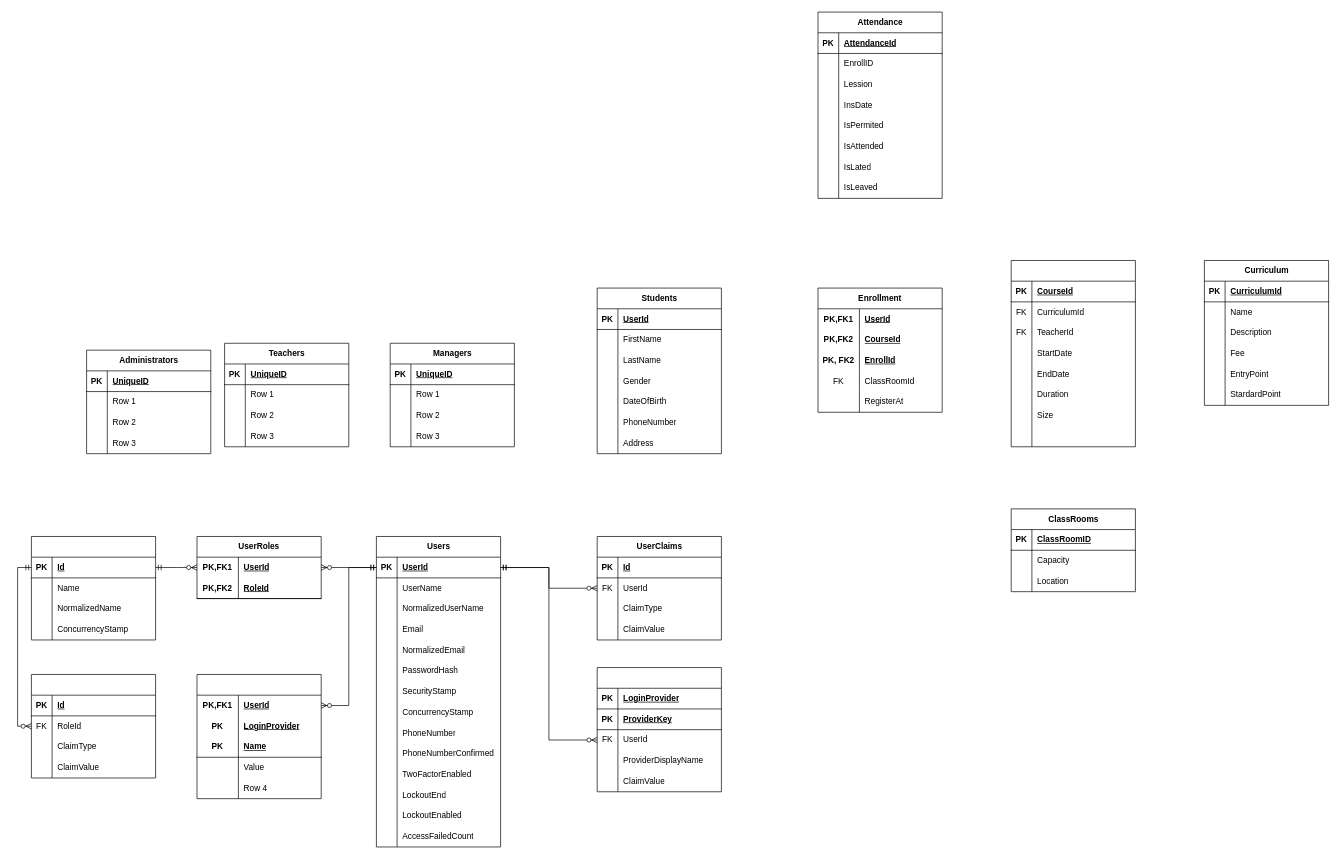
Image size: 1341x859. Some labels were removed from this diagram. Here are the shapes that lost their labels. From the top down, the box of each, then its label:
(1011, 260, 1135, 447): Courses
(31, 536, 156, 640): Roles
(31, 674, 156, 778): RoleClaims
(196, 674, 321, 799): UserTokens
(597, 667, 721, 792): UserLogins
